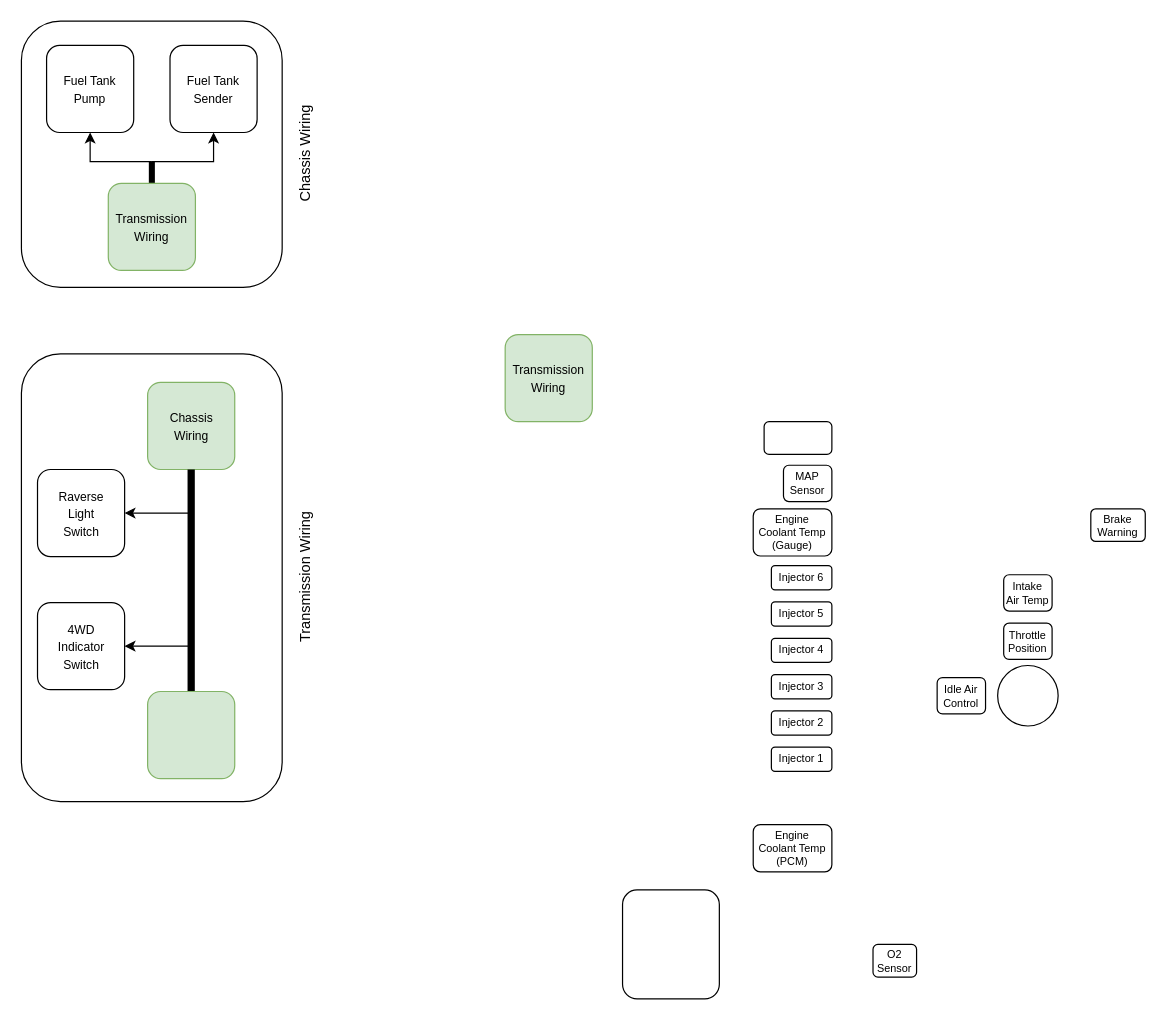
Image size: 1166x1020. Some labels were removed from this diagram. Here are the shapes that lost their labels. From the top down, the box of each, then its label:
(763, 420, 832, 454): Crankshaft Position
(996, 664, 1058, 726): Throttle Body
(146, 690, 235, 779): Engine Wiring
(621, 889, 719, 999): Alternator
